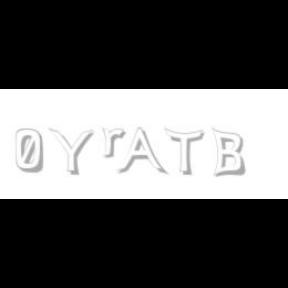0: (16, 128, 46, 174)
A: (117, 128, 165, 176)
B: (211, 128, 245, 178)
T: (164, 128, 204, 176)
Y: (48, 128, 94, 176)
r: (102, 128, 128, 158)
